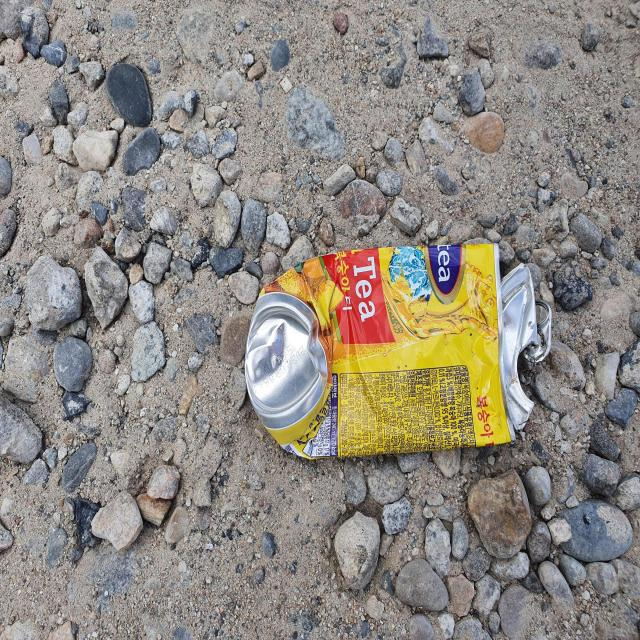can: (246, 243, 553, 458)
